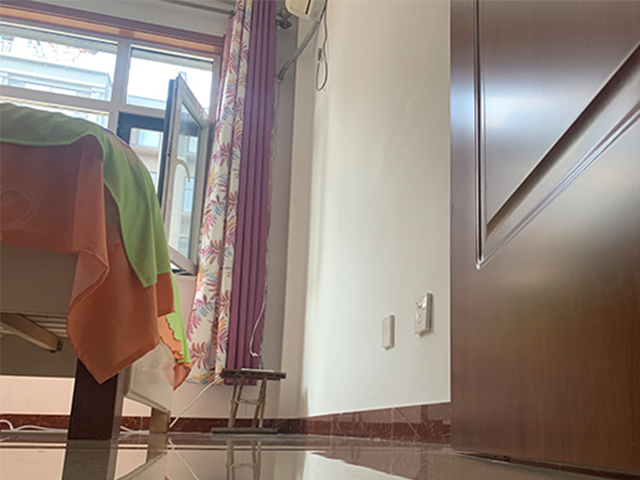bed: (1, 101, 193, 441)
curtain: (191, 2, 270, 386)
stool: (210, 367, 285, 435)
wire: (1, 379, 218, 435)
